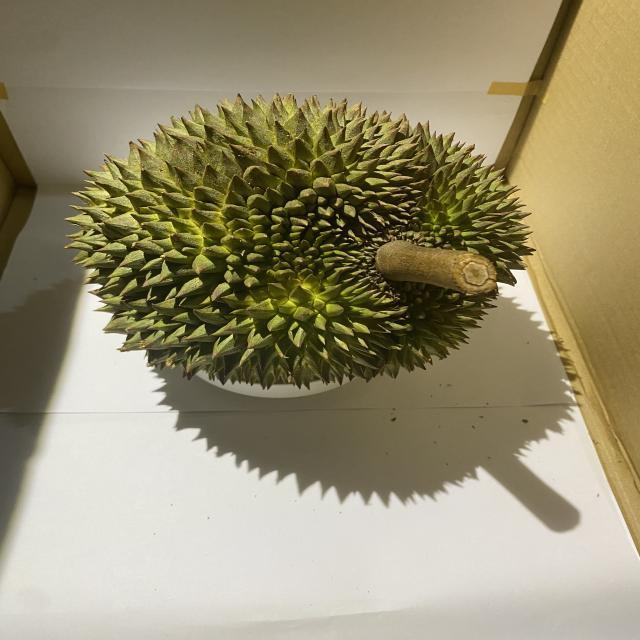immature: (60, 92, 538, 393)
